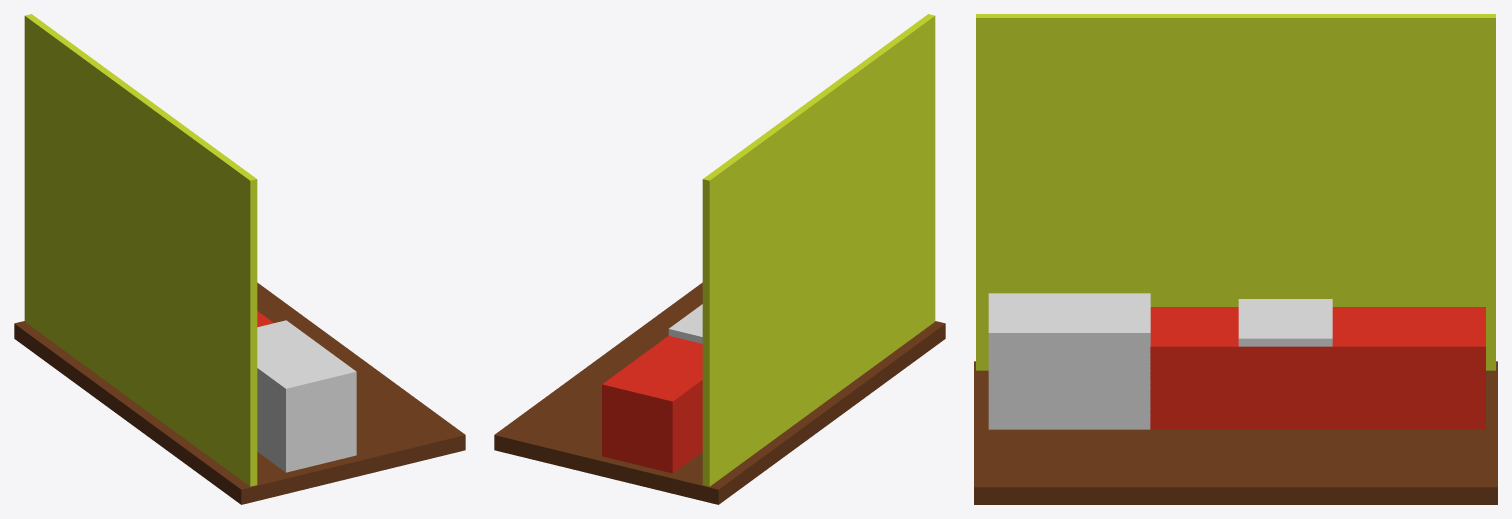
The model's file is Nivel_2.glb.
3 views of the same model, side by side, from view 1: azimuth 30°, elevation 25°; view 2: azimuth 150°, elevation 25°; view 3: azimuth 270°, elevation 25° (orthographic). The views are drawn at different scales.
Visible parts, largest first — view 1: Plane, Plane.001, Cube.002, Cube.003; view 2: Plane, Plane.001, Cube, Cube.001; view 3: Plane, Plane.001, Cube, Cube.002, Cube.003, Cube.001.
Part boxes in pixels (bbox=[...]): Plane: bbox=[24, 14, 257, 486]; Plane.001: bbox=[14, 282, 465, 504]; Cube.002: bbox=[257, 381, 356, 472]; Cube.003: bbox=[257, 320, 356, 407]; Plane: bbox=[702, 14, 935, 486]; Plane.001: bbox=[494, 282, 945, 504]; Cube: bbox=[602, 335, 702, 473]; Cube.001: bbox=[668, 304, 702, 343]; Plane: bbox=[976, 14, 1495, 370]; Plane.001: bbox=[974, 361, 1497, 504]; Cube: bbox=[1150, 307, 1485, 429]; Cube.002: bbox=[988, 346, 1150, 429]; Cube.003: bbox=[988, 293, 1150, 354]; Cube.001: bbox=[1238, 299, 1332, 346].
Size of the model in its own units: 6.35 by 8.69 by 11.14.
